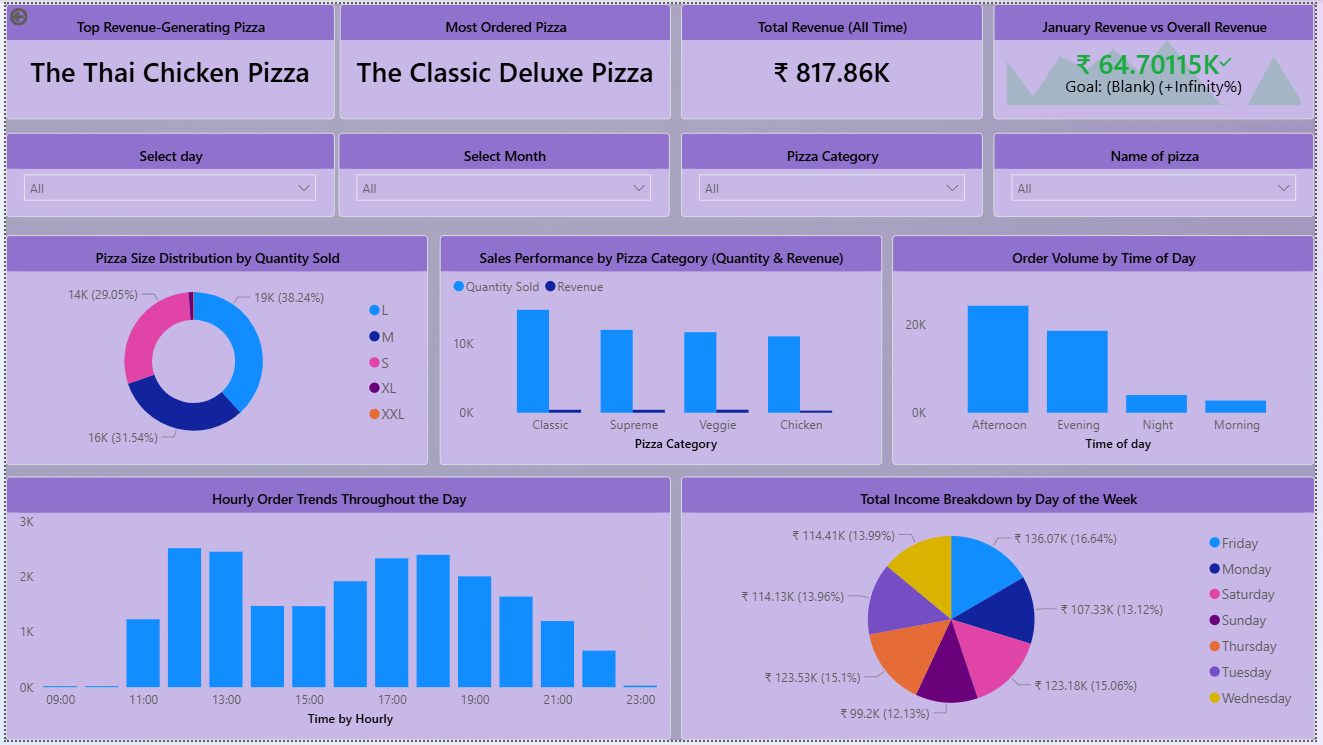

The dashboard page shown, as its layout file describes it:
{"tool":"powerbi","page":{"name":"Page 1","canvas":[1280,720],"ordinal":0},"visuals":[{"type":"columnChart","title":"Hourly Order Trends Throughout the Day","fields":{"Category":["orders.time_Hour"],"Y":["CountNonNull(orders.time_Hour)"]},"box":[0,462.5,650,257.5],"z":0},{"type":"pieChart","title":"Total Income Breakdown by Day of the Week","fields":{"Series":["orders.day"],"Y":["order_details.TotalIncome"]},"box":[660,462.5,620,257.5],"z":1000},{"type":"card","title":"Most Ordered Pizza","fields":{"Values":["order_details.most_ordered_pizza"]},"box":[326.2,0,323.8,112.5],"z":2000},{"type":"card","title":"Top Revenue-Generating Pizza","fields":{"Values":["pizza_types.Max_sales_generated_pizza"]},"box":[0,0,321.2,112.5],"z":3000},{"type":"columnChart","title":"Order Volume by Time of Day","fields":{"Category":["orders.time_of_day"],"Y":["Sum(order_details.quantity)"]},"box":[867.5,226.2,412.5,225],"z":4000},{"type":"clusteredColumnChart","title":"Sales Performance by Pizza Category (Quantity & Revenue)","fields":{"Category":["pizza_types.category"],"Y":["Sum(order_details.quantity)","Sum(pizzas.price)"]},"box":[423.8,226.2,432.5,225],"z":5000},{"type":"kpi","title":"January Revenue vs Overall Revenue","fields":{"TrendLine":["orders.month"],"Indicator":["order_details.TotalIncome"],"Goal":["order_details.TotalIncome_January"]},"box":[966.2,0,313.8,112.5],"z":6000},{"type":"card","title":"Total Revenue (All Time)","fields":{"Values":["order_details.TotalIncome"]},"box":[660,0,295,112.5],"z":7000},{"type":"slicer","title":"Pizza Category","fields":{"Values":["pizza_types.category"]},"box":[660,126.2,295,82.5],"z":8000},{"type":"slicer","title":"Select day","fields":{"Values":["orders.day"]},"box":[0,126.2,321.2,82.5],"z":9000},{"type":"slicer","title":"Select Month","fields":{"Values":["orders.month_name"]},"box":[325,126.2,323.8,82.5],"z":10000},{"type":"actionButton","box":[0,0,28.8,25],"z":11000},{"type":"slicer","title":"Name of pizza","fields":{"Values":["pizza_types.name"]},"box":[966.2,126.2,313.8,82.5],"z":12000},{"type":"donutChart","title":"Pizza Size Distribution by Quantity Sold","fields":{"Y":["Sum(order_details.quantity)"],"Category":["pizzas.size","pizza_types.category"]},"box":[0,226.2,412.5,225],"z":14000}]}

Visuals, with their boxes in screenshot pixels (x1, y1, x2, y2), scaled from the page's 1280x720 canvas onto the 1323x745 screenshot:
"Hourly Order Trends Throughout the Day" columnChart: region(0, 479, 672, 744)
"Total Income Breakdown by Day of the Week" pieChart: region(682, 479, 1322, 744)
"Most Ordered Pizza" card: region(337, 0, 672, 116)
"Top Revenue-Generating Pizza" card: region(0, 0, 332, 116)
"Order Volume by Time of Day" columnChart: region(897, 234, 1322, 467)
"Sales Performance by Pizza Category (Quantity & Revenue)" clusteredColumnChart: region(438, 234, 885, 467)
"January Revenue vs Overall Revenue" kpi: region(999, 0, 1322, 116)
"Total Revenue (All Time)" card: region(682, 0, 987, 116)
"Pizza Category" slicer: region(682, 131, 987, 216)
"Select day" slicer: region(0, 131, 332, 216)
"Select Month" slicer: region(336, 131, 671, 216)
actionButton: region(0, 0, 30, 26)
"Name of pizza" slicer: region(999, 131, 1322, 216)
"Pizza Size Distribution by Quantity Sold" donutChart: region(0, 234, 426, 467)
